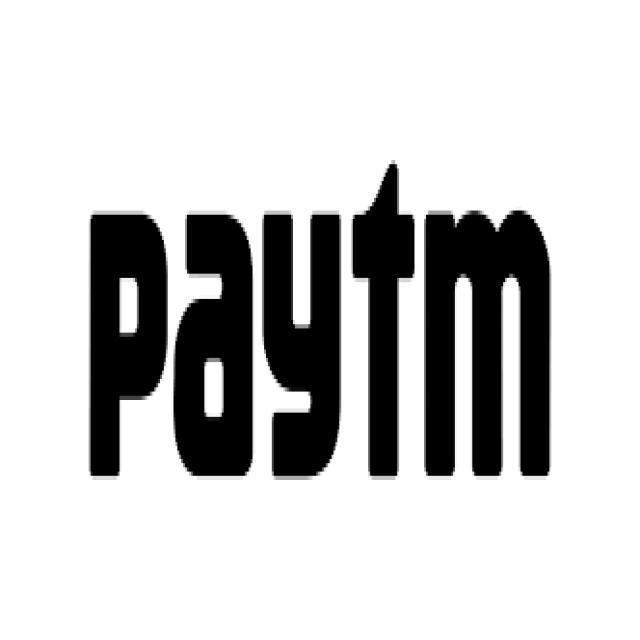fully_visible: (85, 177, 560, 497)
